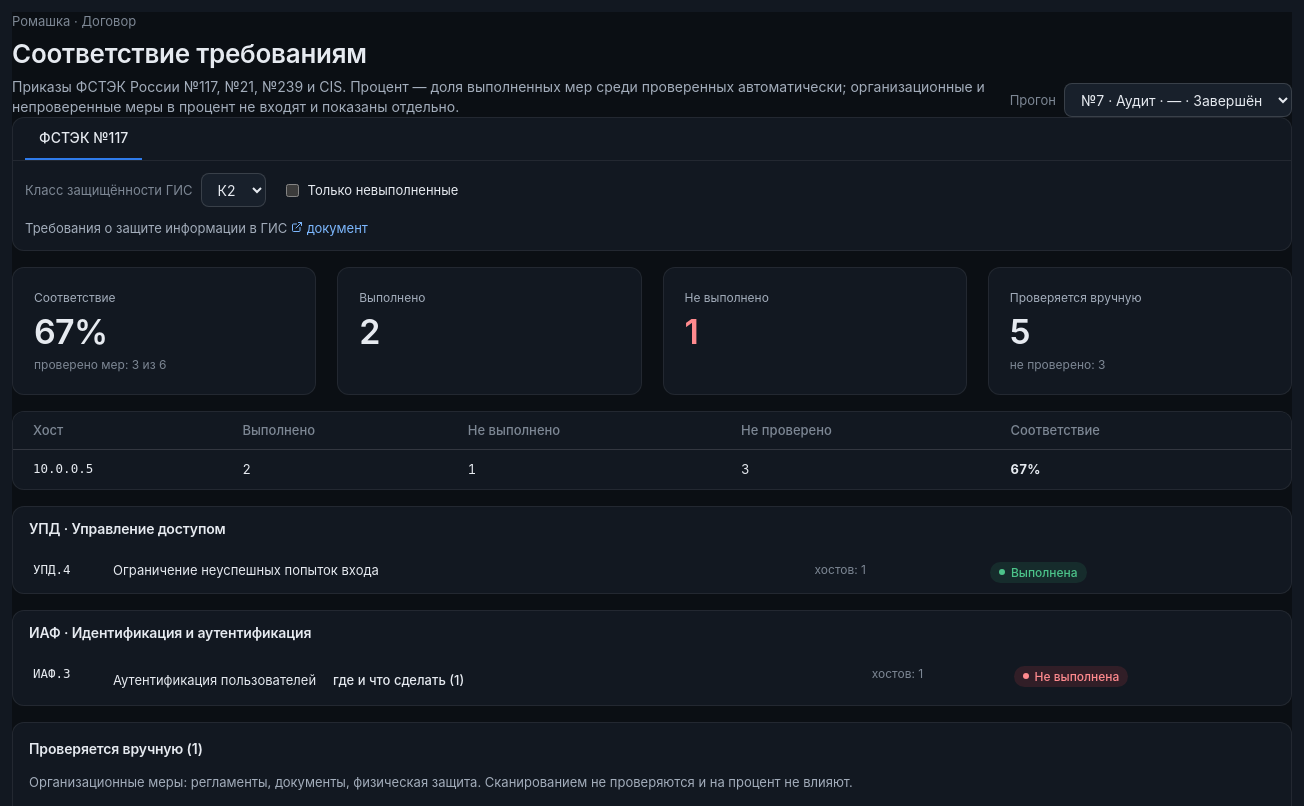
Test case: показывает процент, провалы с рекомендацией и меры «вручную»
Check: the 1st text "67%" is shown, box [34, 311, 108, 352]
Click the button "где и что сделать (1)": point(399, 680) [322, 665, 475, 695]
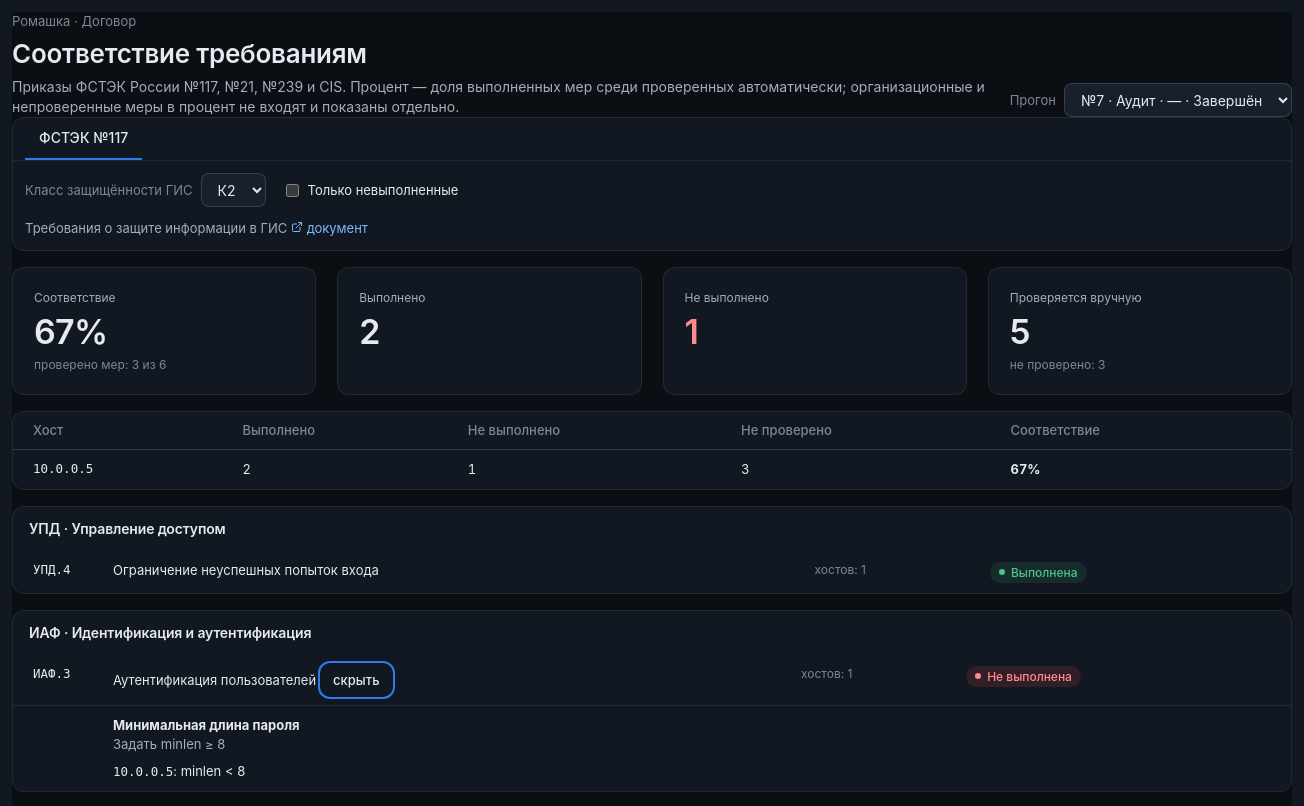
Check: the text "Задать minlen ≥ 8" is shown, box [113, 736, 225, 752]
